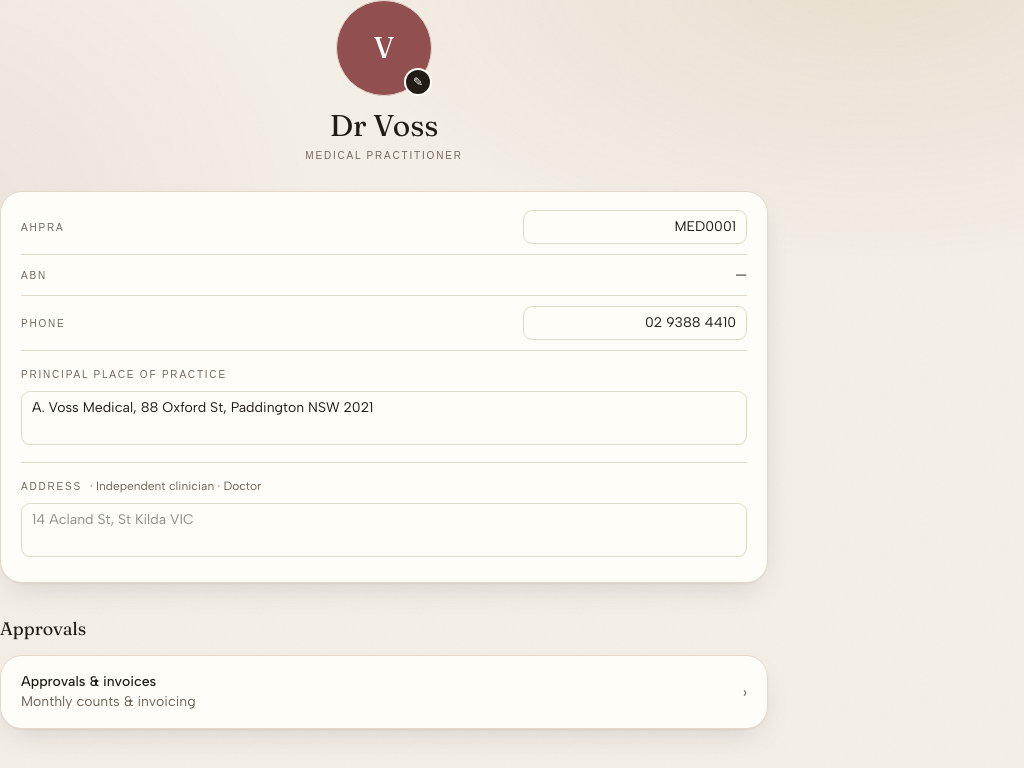
A required contact field cannot be cleared › clears the refusal as soon as the field is corrected, without a second save
The image size is (1024, 768).
Clear the field labelled "Phone": x=635, y=323 top-left (523, 306), bottom-right (747, 340)
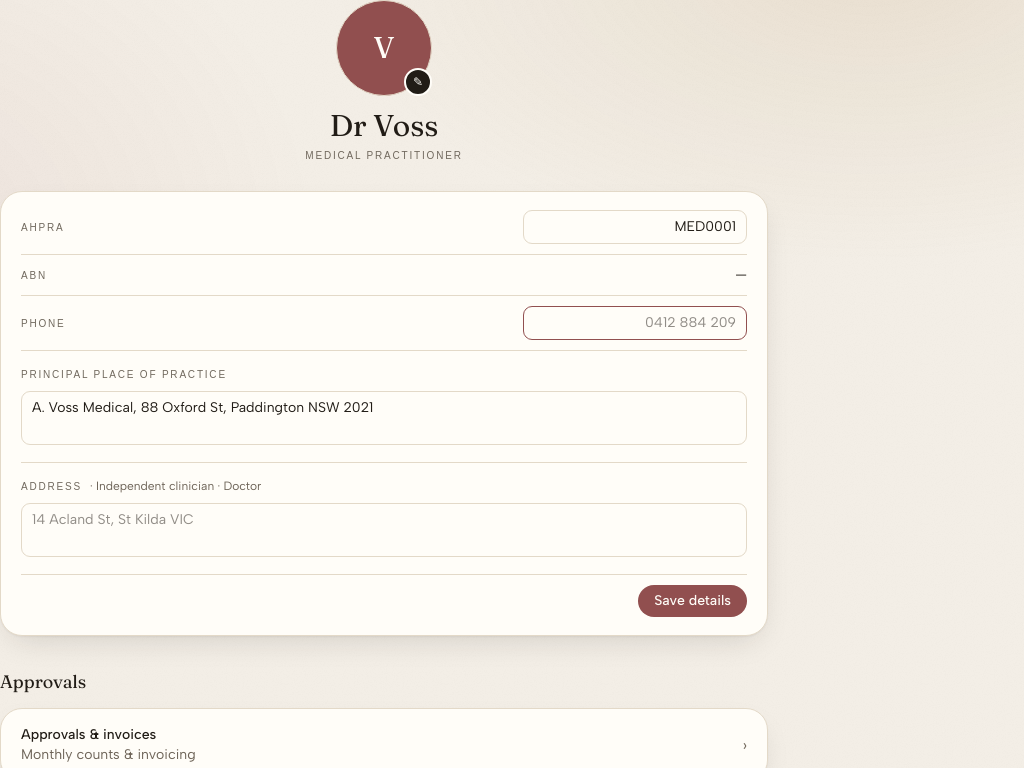
Click the button "Save details": x=693, y=601 top-left (638, 585), bottom-right (747, 617)
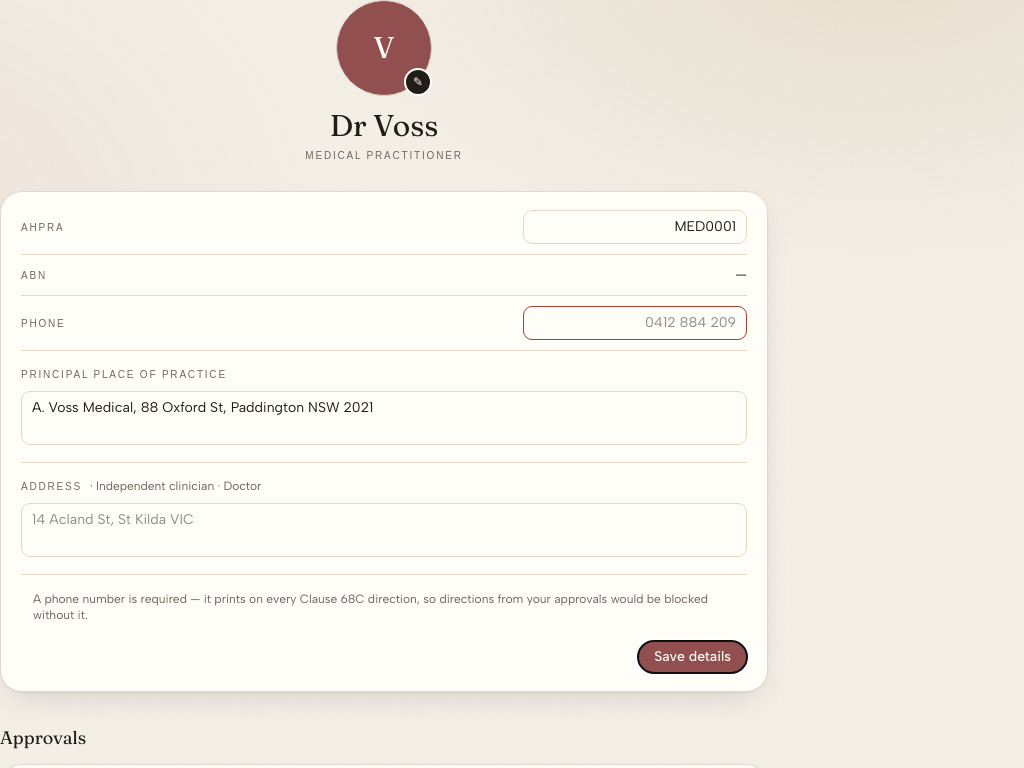
Check: the message is shown, box top-left (21, 583), bottom-right (747, 631)
In the field labelled "Phone": x=635, y=323 top-left (523, 306), bottom-right (747, 340), type "02 9000 3333"
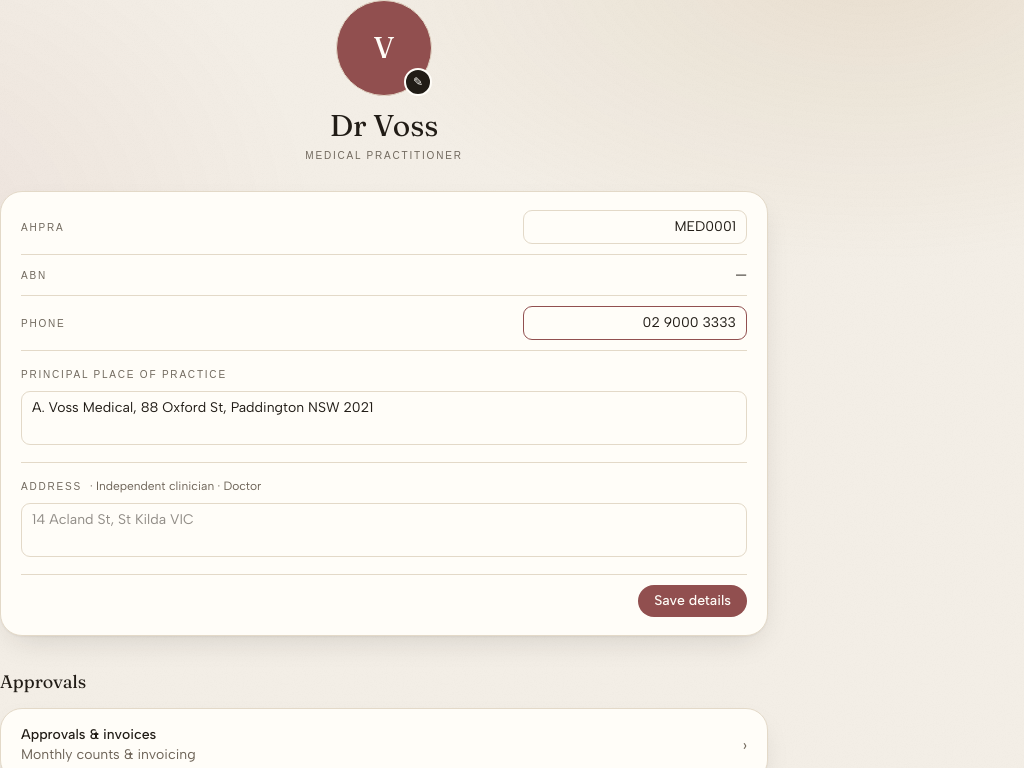
Check: the message is gone
